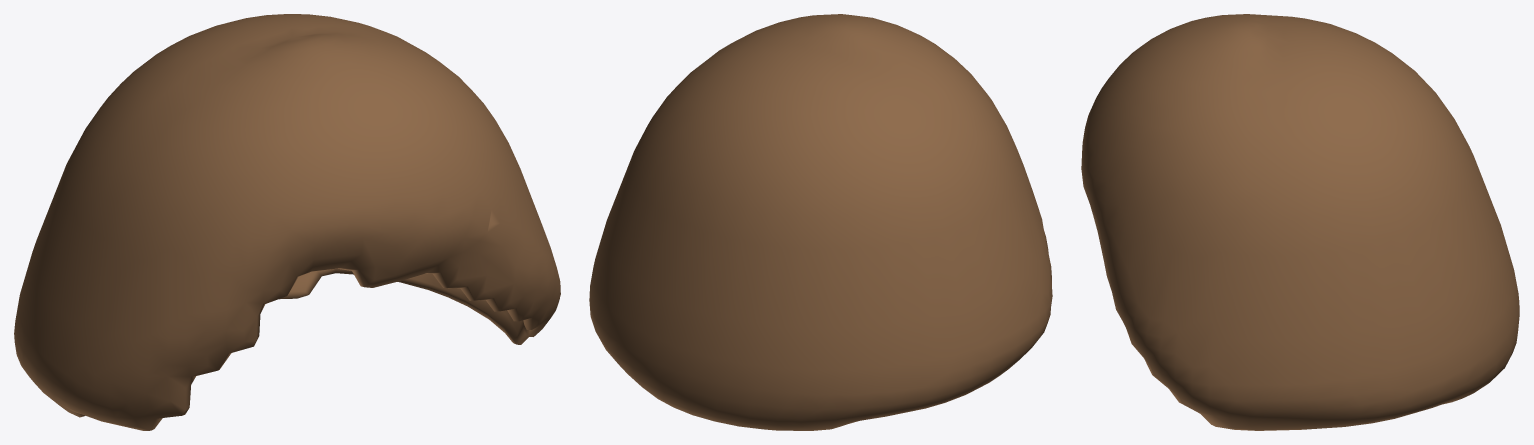
File: f_pixie.glb
3 views of the same model, side by side, from view 1: azimuth 30°, elevation 25°; view 2: azimuth 150°, elevation 25°; view 3: azimuth 270°, elevation 25° (orthographic). The views are drawn at different scales.
Visible parts, largest first — view 1: f_pixie; view 2: f_pixie; view 3: f_pixie.
Part boxes in pixels (x1,y1,x2,y2): f_pixie: [14, 14, 560, 430]; f_pixie: [589, 14, 1052, 430]; f_pixie: [1081, 14, 1519, 430].
Size of the model in its own units: 2.3 by 1.67 by 2.01.
